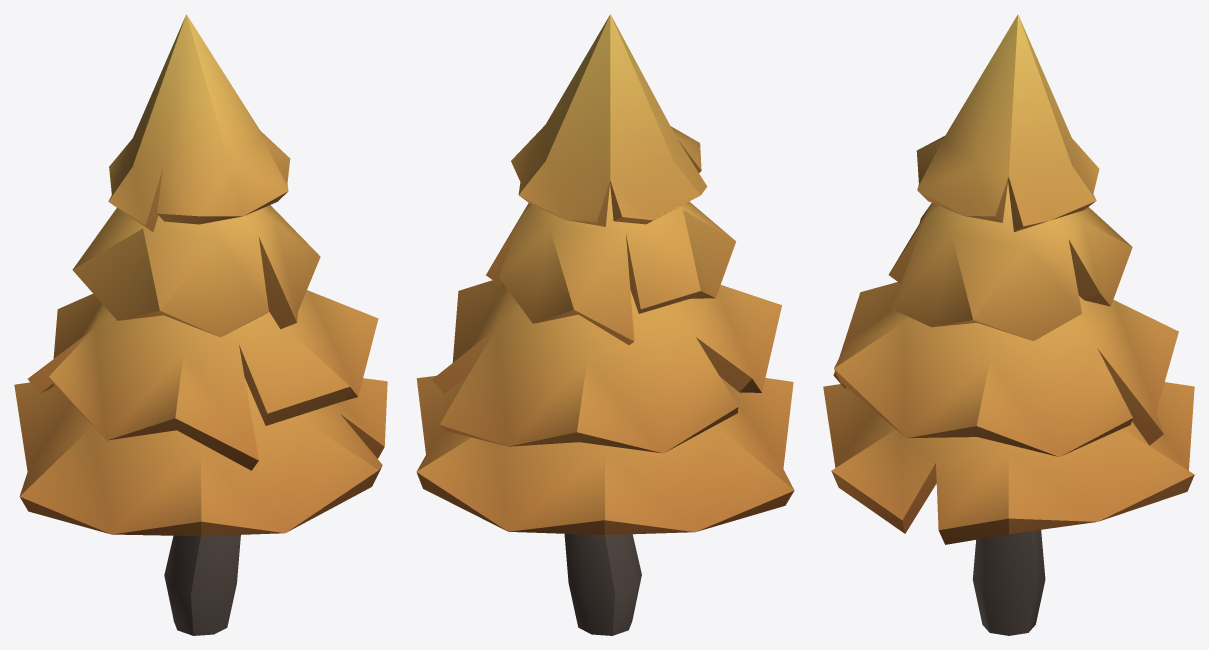
Rendered from Tree Pine Yellow Large.glb.
3 views of the same model, side by side, from view 1: azimuth 30°, elevation 25°; view 2: azimuth 150°, elevation 25°; view 3: azimuth 270°, elevation 25° (orthographic).
Parts seen in each view (by area): view 1: tree_pine_yellow_large; view 2: tree_pine_yellow_large; view 3: tree_pine_yellow_large.
Boxes of the visible parts, x1,y1,x2,y2 form: tree_pine_yellow_large: (14,14,387,635); tree_pine_yellow_large: (416,14,794,635); tree_pine_yellow_large: (823,14,1194,635).
Size of the model in its own units: 4.76 by 7.48 by 4.15.
1 material, 1 textured.
